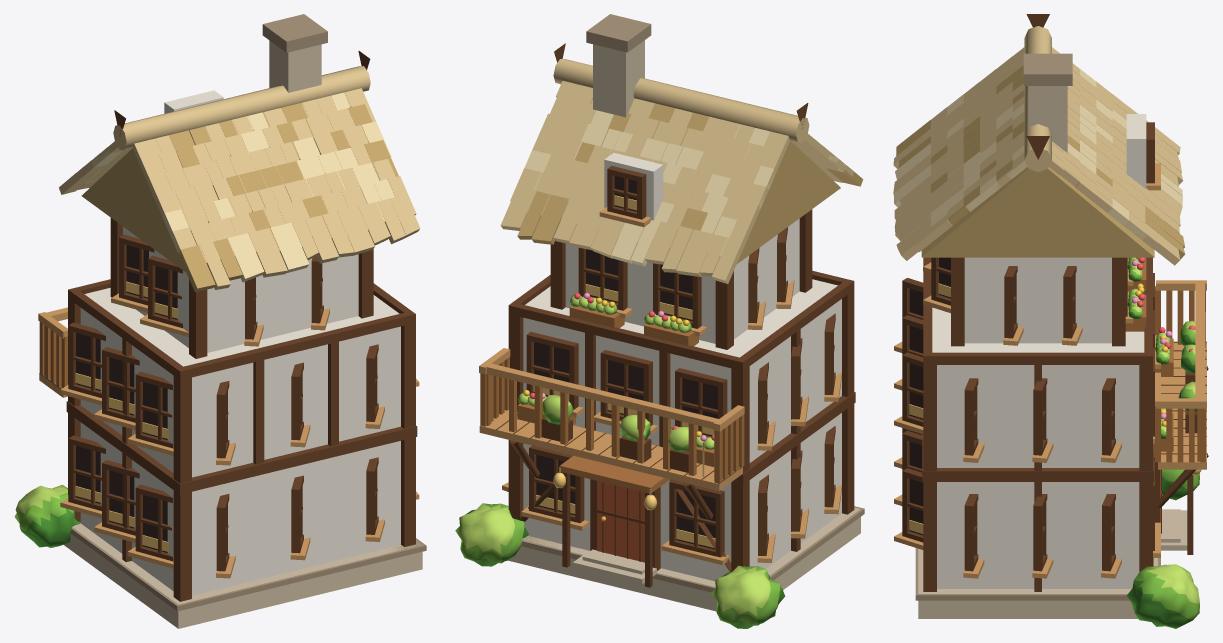
Rendered from building_hotel.obj.
3 renders of one model, left to right at view 1: azimuth 30°, elevation 25°; view 2: azimuth 150°, elevation 25°; view 3: azimuth 270°, elevation 25°, orthographic. The views are drawn at different scales.
Parts seen in each view (by area): view 1: building_hotel_cream, building_hotel_wood_dark, building_hotel_thatch_mid, building_hotel_thatch_dark, building_hotel_stone, building_hotel_thatch_light, building_hotel_glass, building_hotel_wood_light, building_hotel_stone_dark, building_hotel_glass_lit, building_hotel_wood_mid, building_hotel_leaf_dark (+2 smaller); view 2: building_hotel_wood_dark, building_hotel_cream, building_hotel_thatch_mid, building_hotel_wood_light, building_hotel_wood_mid, building_hotel_stone, building_hotel_thatch_dark, building_hotel_thatch_light, building_hotel_glass, building_hotel_leaf_light, building_hotel_stone_dark, building_hotel_leaf_mid (+3 smaller); view 3: building_hotel_cream, building_hotel_wood_dark, building_hotel_thatch_mid, building_hotel_thatch_dark, building_hotel_stone, building_hotel_wood_light, building_hotel_thatch_light, building_hotel_wood_mid, building_hotel_stone_dark, building_hotel_leaf_mid, building_hotel_glass, building_hotel_leaf_dark (+2 smaller).
Boxes of the visible parts, <box> form: building_hotel_cream: <box>80,90,400,595</box>; building_hotel_wood_dark: <box>39,51,417,601</box>; building_hotel_thatch_mid: <box>59,66,420,289</box>; building_hotel_thatch_dark: <box>81,103,398,291</box>; building_hotel_stone: <box>64,40,422,628</box>; building_hotel_thatch_light: <box>85,92,398,282</box>; building_hotel_glass: <box>76,245,177,552</box>; building_hotel_wood_light: <box>38,293,419,578</box>; building_hotel_stone_dark: <box>70,14,426,611</box>; building_hotel_glass_lit: <box>75,281,178,552</box>; building_hotel_wood_mid: <box>39,322,67,388</box>; building_hotel_leaf_dark: <box>20,508,80,547</box>; building_hotel_wood_dark: <box>496,43,855,587</box>; building_hotel_cream: <box>523,153,841,581</box>; building_hotel_thatch_mid: <box>500,59,853,283</box>; building_hotel_wood_light: <box>479,207,841,564</box>; building_hotel_wood_mid: <box>480,305,744,493</box>; building_hotel_stone: <box>508,40,860,611</box>; building_hotel_thatch_dark: <box>517,97,863,263</box>; building_hotel_thatch_light: <box>524,110,846,266</box>; building_hotel_glass: <box>534,176,717,549</box>; building_hotel_leaf_light: <box>459,295,770,616</box>; building_hotel_stone_dark: <box>521,14,864,592</box>; building_hotel_leaf_mid: <box>455,295,781,625</box>; building_hotel_cream: <box>932,114,1146,588</box>; building_hotel_wood_dark: <box>902,14,1208,591</box>; building_hotel_thatch_mid: <box>893,26,1183,265</box>; building_hotel_thatch_dark: <box>896,65,1185,259</box>; building_hotel_stone: <box>918,86,1187,618</box>; building_hotel_wood_light: <box>894,163,1206,578</box>; building_hotel_thatch_light: <box>893,69,1182,239</box>; building_hotel_wood_mid: <box>1125,257,1205,462</box>; building_hotel_stone_dark: <box>915,53,1160,600</box>; building_hotel_leaf_mid: <box>1129,257,1199,620</box>; building_hotel_glass: <box>909,257,950,535</box>; building_hotel_leaf_dark: <box>1126,258,1197,628</box>.
Bounding box in the file's own units: 3.85 × 5.9 × 3.21.
